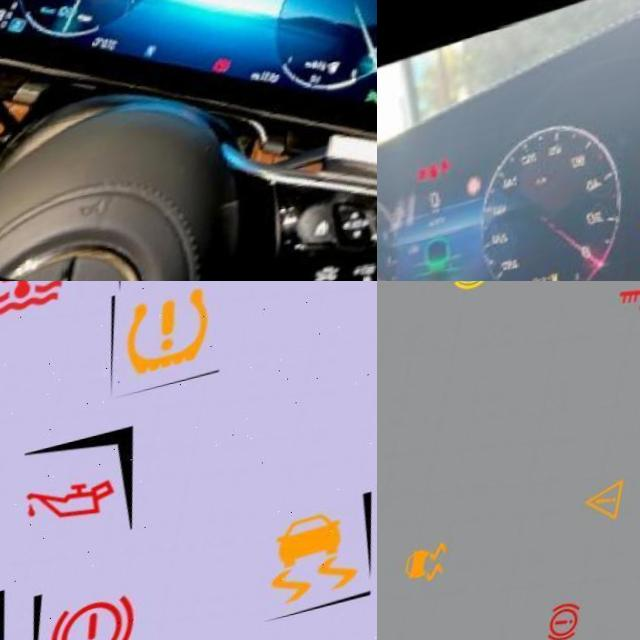Low fuel level: (350, 62, 368, 79), (566, 276, 584, 281)
